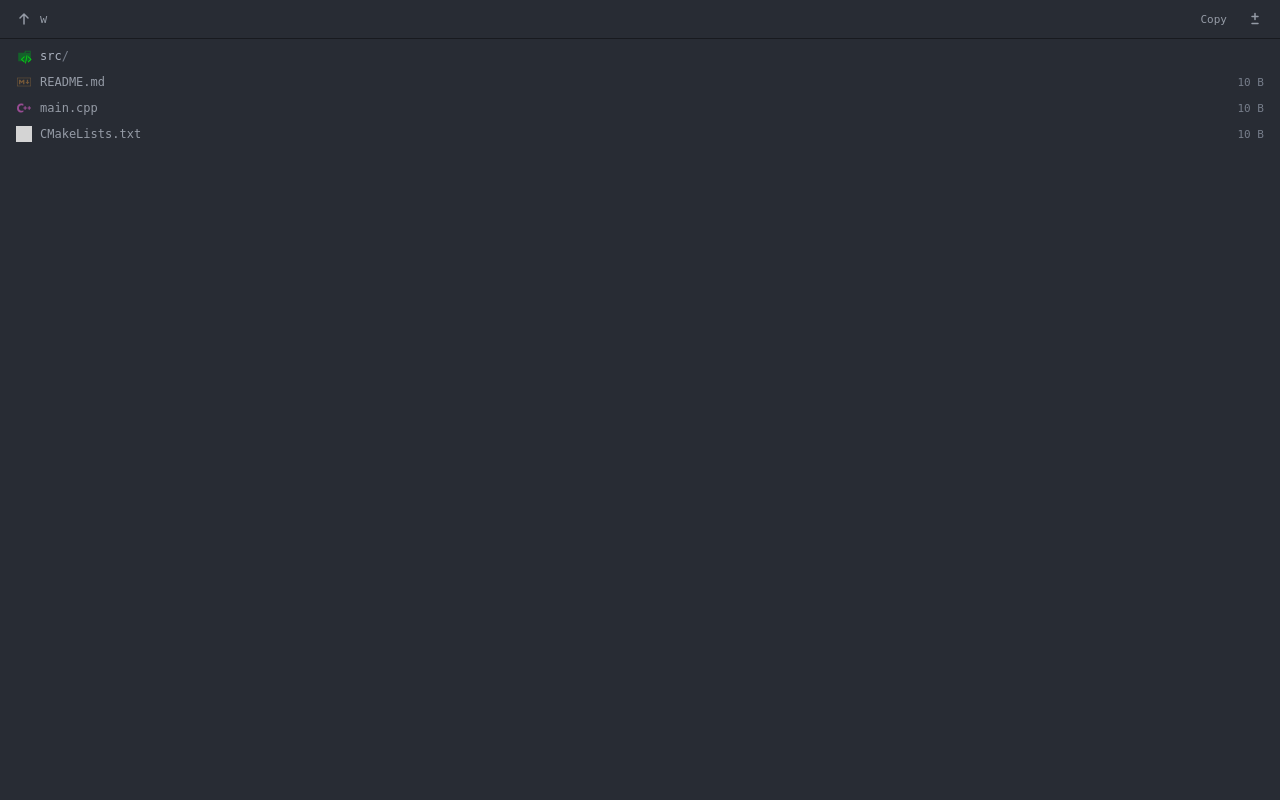
Test: the Files panel's icons and changes › never wraps a line of code or of a diff: it scrolls sideways
expect the element with class "dir-view" is shown: met, box top-left (0, 39), bottom-right (1279, 151)
Click the button titled "Changes against the base branch": (1255, 19) top-left (1238, 6), bottom-right (1272, 32)
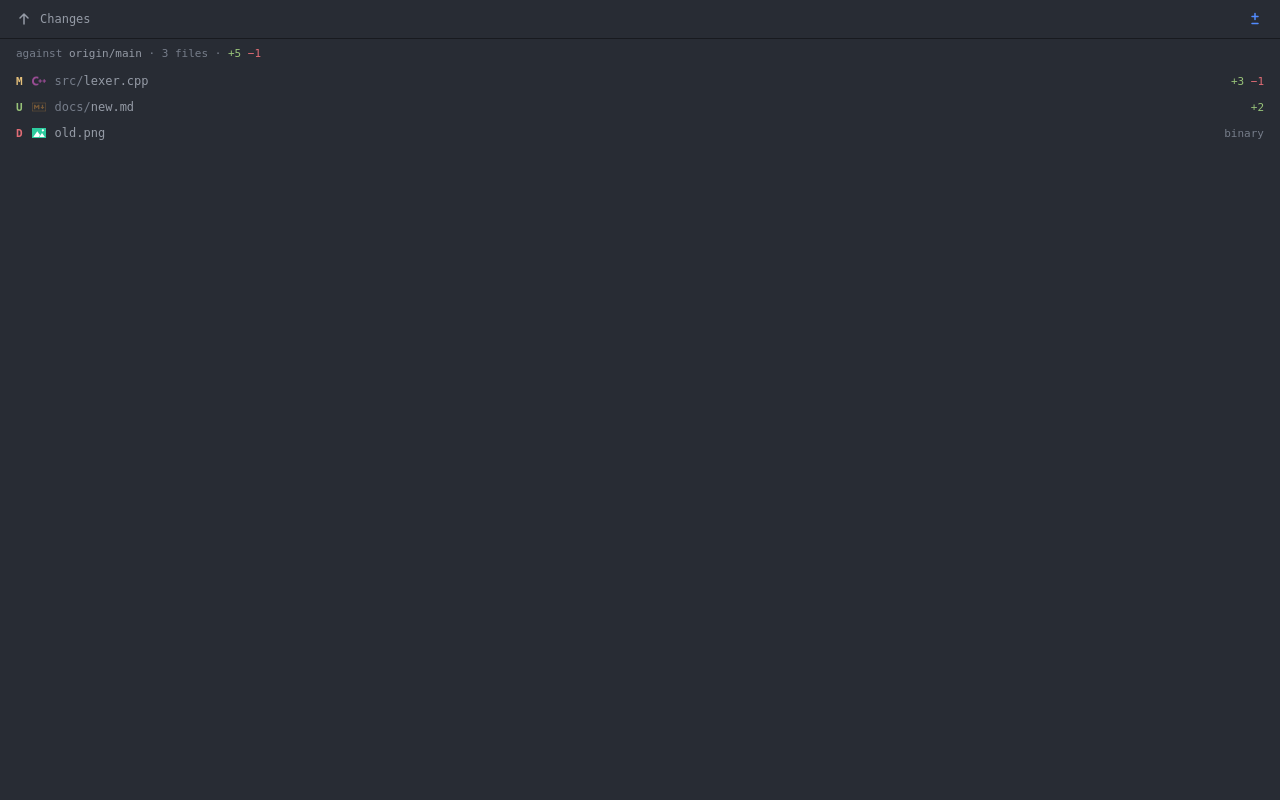
expect the button with class "change-entry" showing "M src/lexer.cpp +3 −1" is shown: met
Click the button with class "change-entry" showing "M src/lexer.cpp +3 −1": (116, 81) top-left (0, 68), bottom-right (1279, 94)
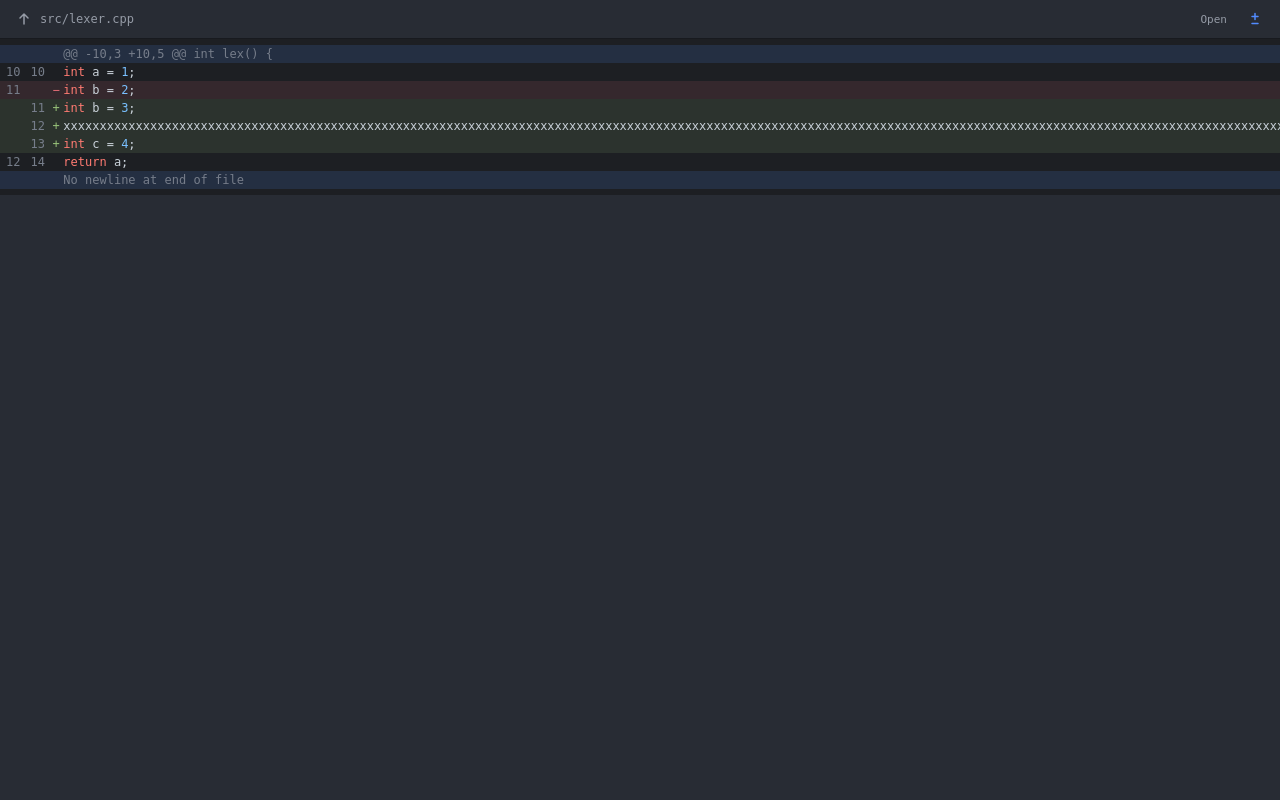
expect the 2nd text with class "diff-sign" reads "+": met, box top-left (52, 119), bottom-right (60, 133)
